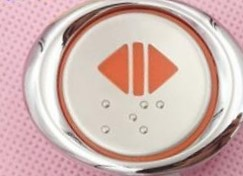Braille: (102, 99, 123, 134), (156, 100, 176, 133), (129, 101, 148, 134)
